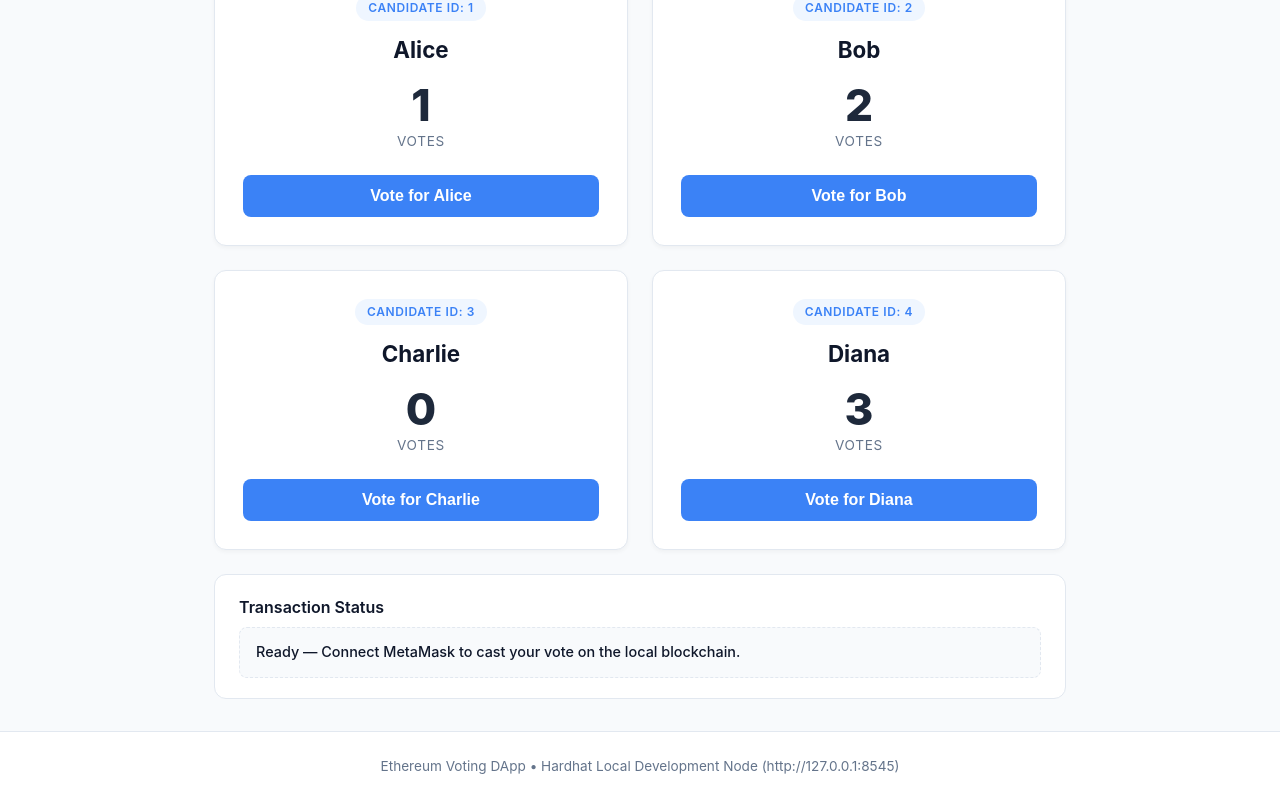
Test: Voting DApp UI & Integration Tests › 6. Syncs hasVoted state when contract reverts with already voted error and supports 4 candidates
(page scrolled)
Expected: the heading "Charlie" is shown, [382,337,460,370]
Expected: the heading "Diana" is shown, [828,337,890,370]
Click the button "Vote for Charlie".
click(421, 500)  # box [243,479,599,521]
(page scrolled)
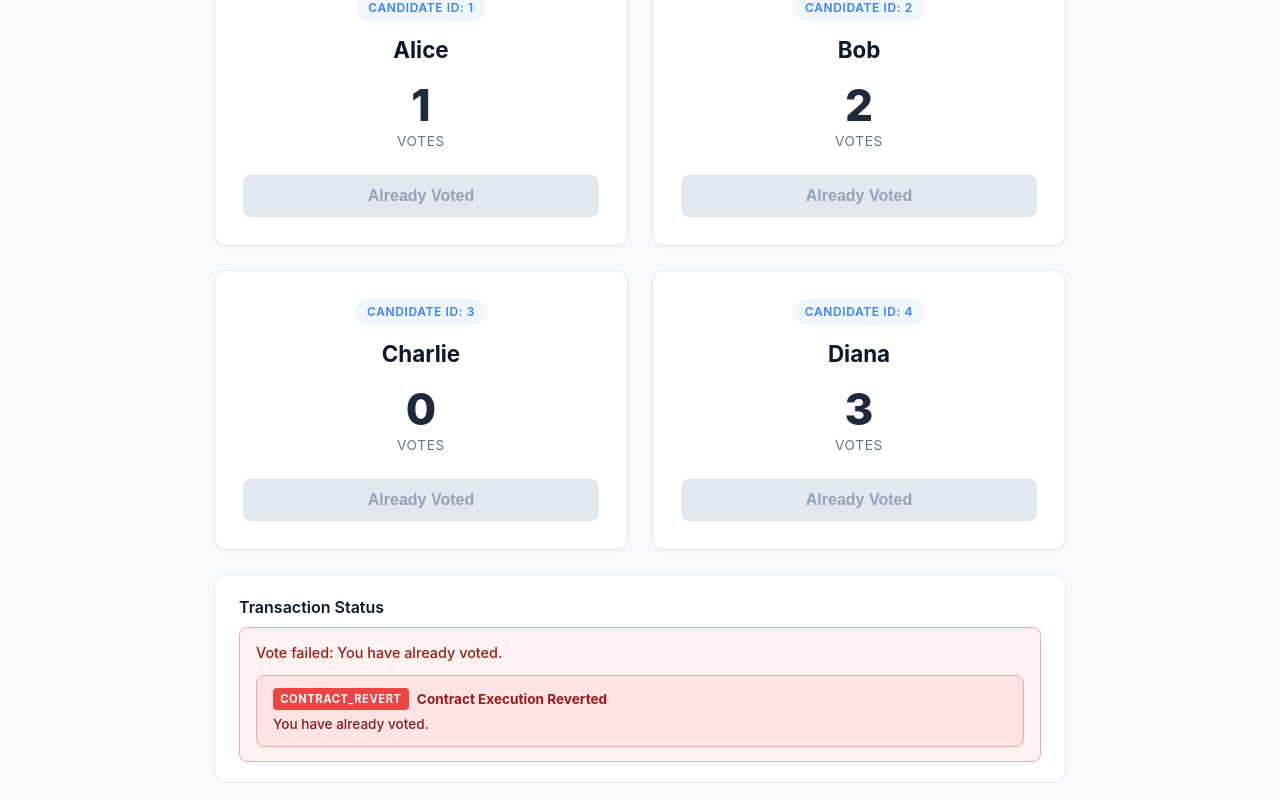
Now the text "CONTRACT_REVERT" is shown, box [273,688,409,710]
Now the button "Already Voted" below "Alice" is disabled, box [243,175,599,217]
Now the button "Already Voted" below "Bob" is disabled, box [681,175,1037,217]
